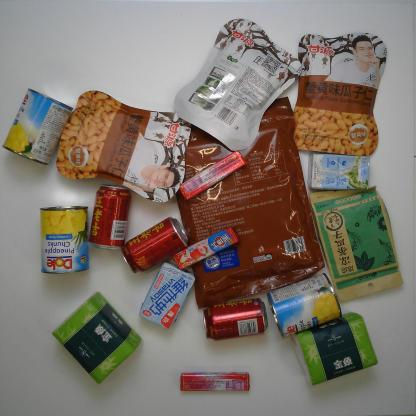Candy: (178, 148, 248, 202), (171, 226, 240, 274), (177, 368, 253, 393)
Canned Food: (1, 86, 75, 167), (265, 270, 344, 339), (36, 204, 93, 275)
Dried Food: (174, 93, 327, 312), (308, 183, 406, 304)
Dried Fruit: (172, 16, 304, 154), (53, 86, 195, 206), (290, 29, 390, 158)
Drink: (120, 215, 190, 276), (86, 181, 132, 252), (201, 296, 270, 342)
Milk: (136, 259, 197, 333), (306, 150, 372, 194)
Tissue: (46, 289, 147, 387), (288, 310, 380, 388)
